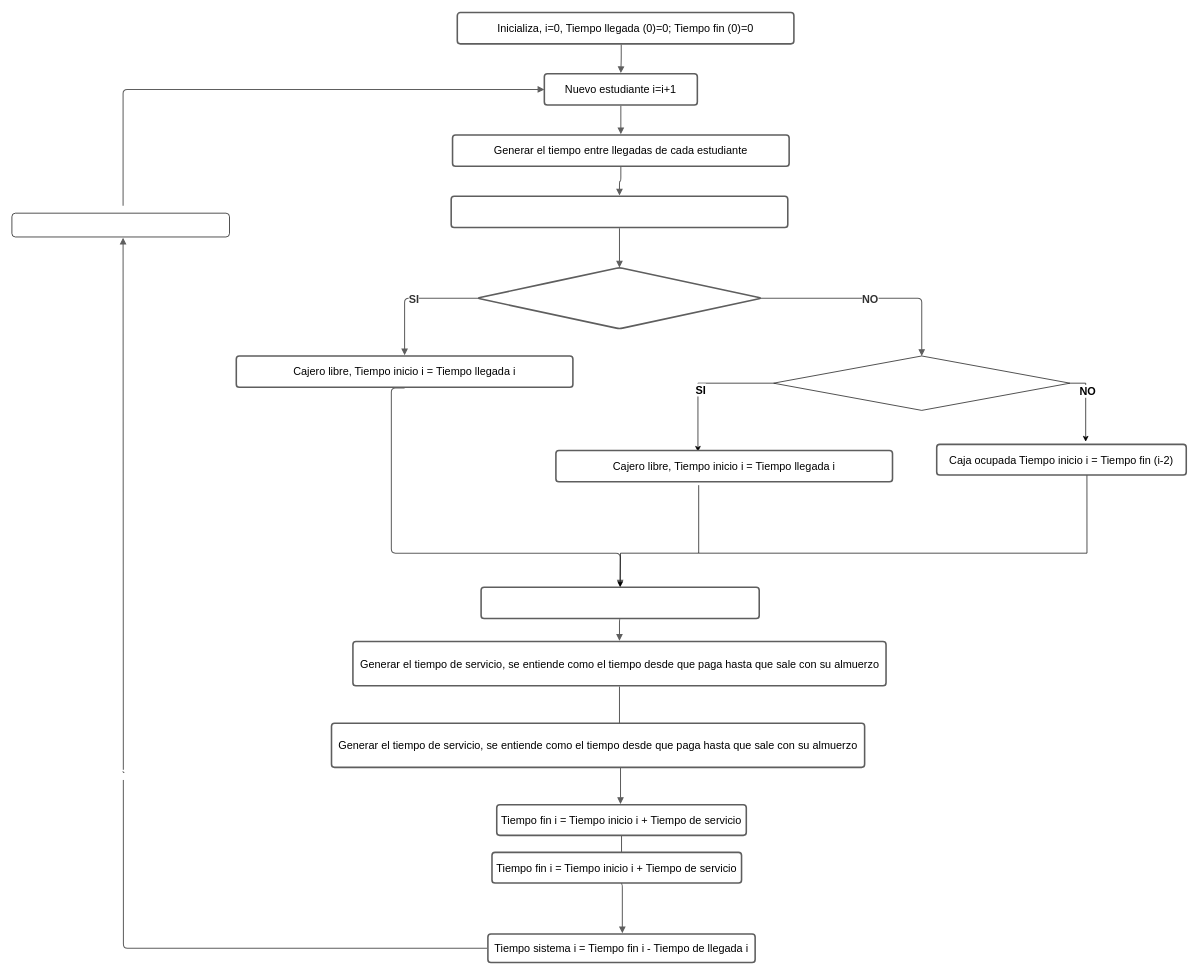
This 1199x975 diagram has some shape labels left out. Each missing label, with the centre of its shape:
Es mayor el tiempo de llegada i que tiempo fin(i-1): [619,297]
Es mayor el tiempo de llegada i que tiempo fin(i-2): [921,382]
Siguiente estudiante: [120,225]
Tiempo de llegada i= Tiempo de llegada (i-1) + Tiempo de llegada: [619,211]
Tiempo espera i = Tiempo inicio i - Tiempo llegada i: [620,602]
